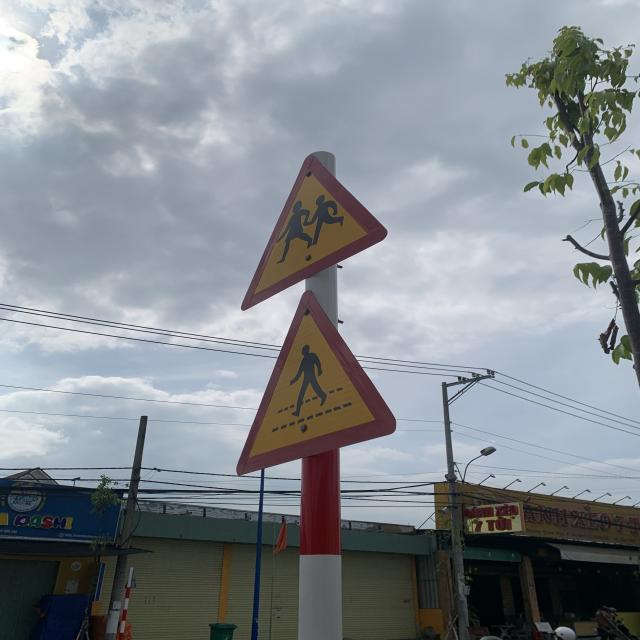Duong_Nguoi_Di_Bo_Sang_Ngang: (234, 290, 399, 478)
Vong_Xuyen: (243, 154, 388, 312)
